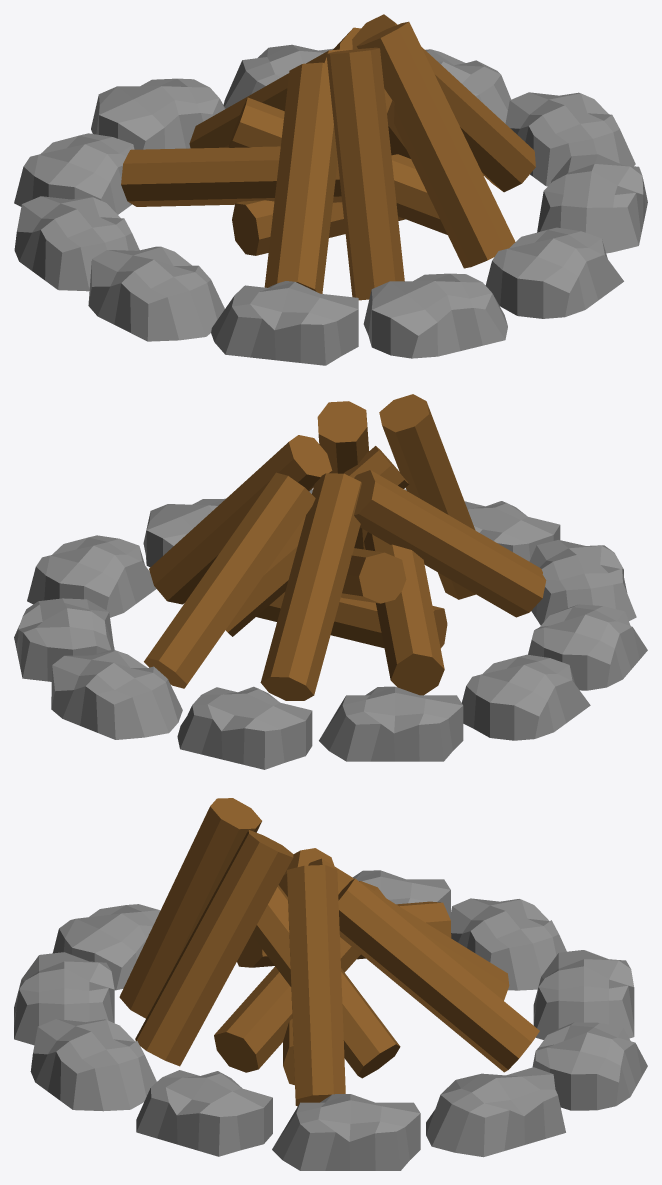
File: Campfire.fbx
The picture shows the model from 3 angles, top to bottom: view 1: azimuth 30°, elevation 25°; view 2: azimuth 150°, elevation 25°; view 3: azimuth 270°, elevation 25°; orthographic projection. The views are drawn at different scales.
Visible parts, largest first — view 1: Campfire; view 2: Campfire; view 3: Campfire.
Part boxes in pixels (x1=…): Campfire: x1=14, y1=14, x2=647, y2=365; Campfire: x1=14, y1=394, x2=647, y2=769; Campfire: x1=14, y1=798, x2=647, y2=1170.
Size of the model in its own units: 3137 by 1206 by 3159.
